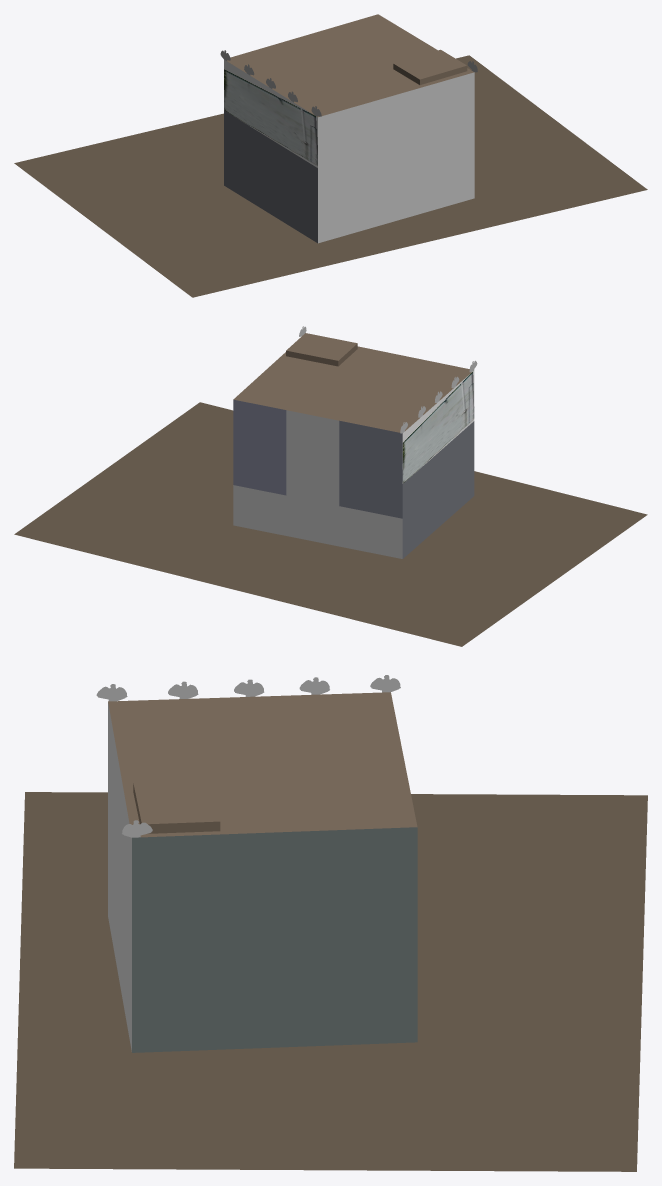
File: Palacio+Catete.fbx
3 views of the same model, one above another, from view 1: azimuth 30°, elevation 25°; view 2: azimuth 150°, elevation 25°; view 3: azimuth 270°, elevation 25° (orthographic). The views are drawn at different scales.
Visible parts, largest first — view 1: Google_Earth_Snapshot, Model; view 2: Google_Earth_Snapshot, Model; view 3: Google_Earth_Snapshot, Model.
Boxes of the visible parts, left/top/right/bottom form: Google_Earth_Snapshot: left=14, top=55, right=647, bottom=297; Model: left=220, top=14, right=477, bottom=243; Google_Earth_Snapshot: left=14, top=402, right=647, bottom=646; Model: left=233, top=326, right=477, bottom=558; Google_Earth_Snapshot: left=14, top=792, right=647, bottom=1171; Model: left=96, top=675, right=417, bottom=1052.
Size of the model in its own units: 84.53 by 24.12 by 59.62.
